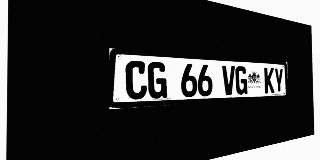6: (181, 63, 197, 97), (198, 64, 213, 97)
C: (125, 61, 147, 100)
G: (148, 62, 167, 99), (235, 66, 247, 95)
K: (264, 67, 274, 93)
V: (222, 65, 235, 95)
Y: (274, 68, 283, 93)
